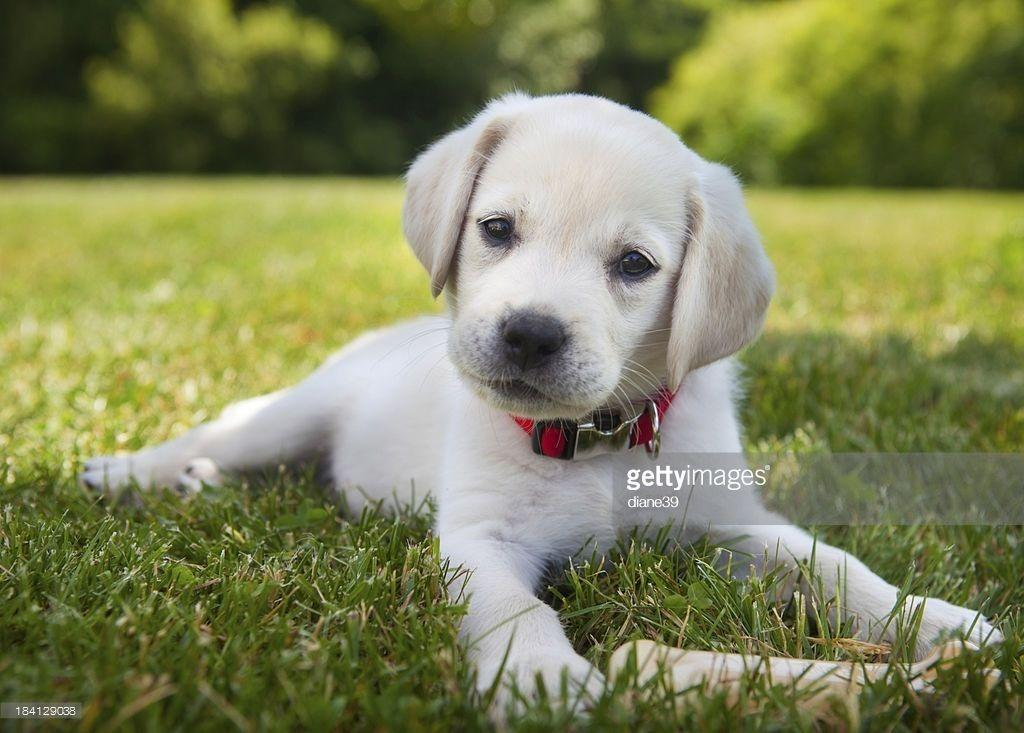puppy-dog: (77, 83, 1009, 727)
